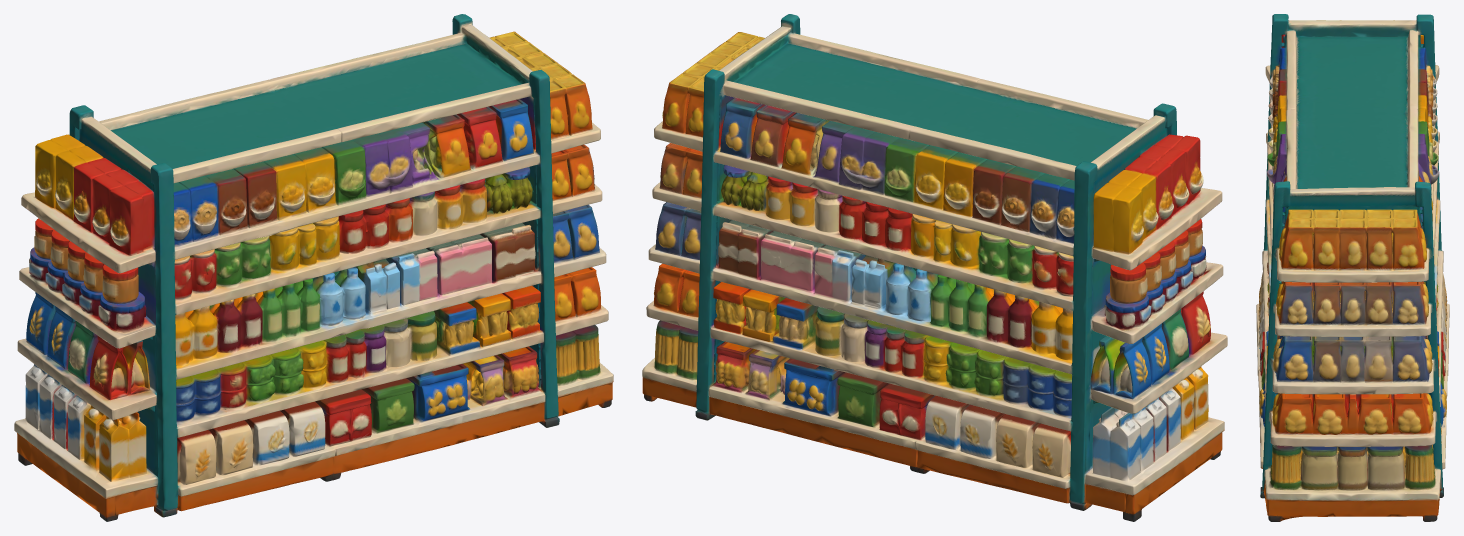
Rendered from GroceryShelf.fbx.
3 views of the same model, side by side, from view 1: azimuth 30°, elevation 25°; view 2: azimuth 150°, elevation 25°; view 3: azimuth 270°, elevation 25° (orthographic). The views are drawn at different scales.
Visible parts, largest first — view 1: tripo_node_69fb567d-37f7-43b9-a241-224228da6f3f; view 2: tripo_node_69fb567d-37f7-43b9-a241-224228da6f3f; view 3: tripo_node_69fb567d-37f7-43b9-a241-224228da6f3f.
Part boxes in pixels (x1,y1,x2,y2): tripo_node_69fb567d-37f7-43b9-a241-224228da6f3f: (14, 14, 613, 521); tripo_node_69fb567d-37f7-43b9-a241-224228da6f3f: (642, 14, 1227, 521); tripo_node_69fb567d-37f7-43b9-a241-224228da6f3f: (1256, 14, 1449, 521).
Bounding box in the file's own units: 97.95 × 63.89 × 35.79.
